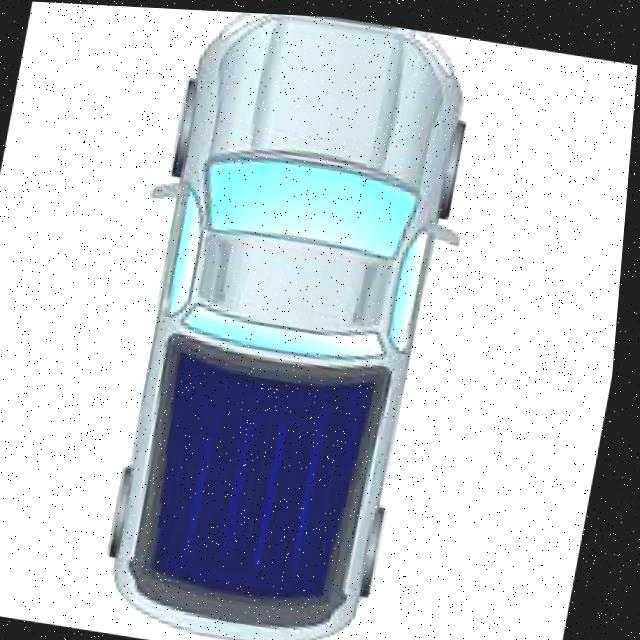truck: (108, 6, 479, 640)
